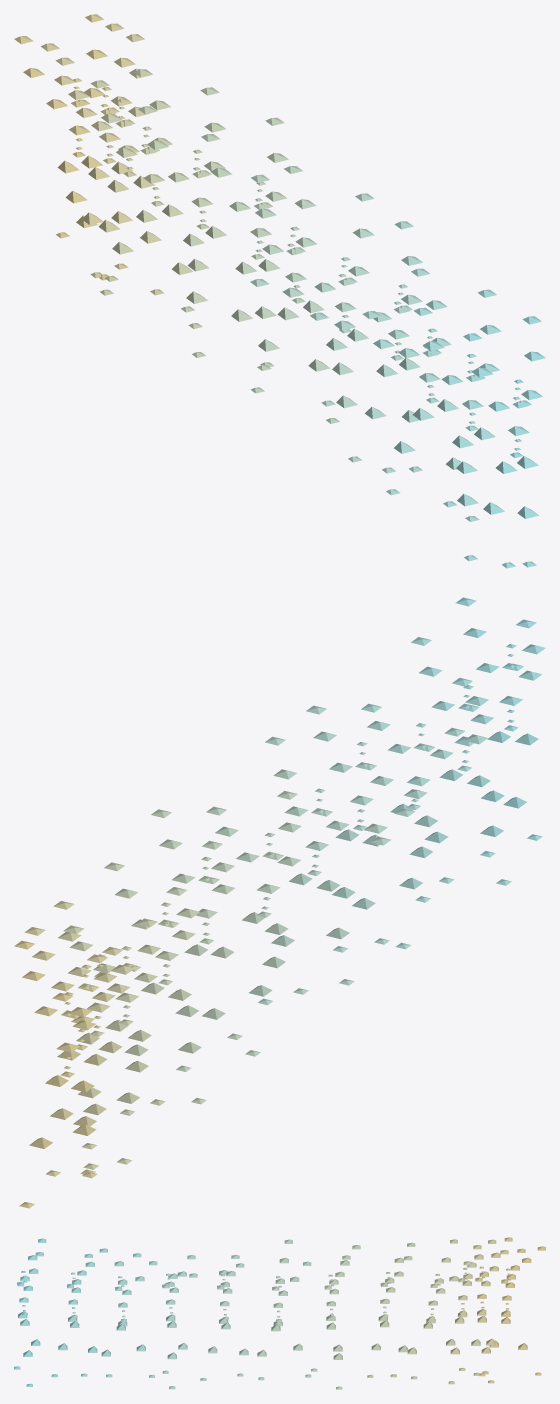
The model's file is kimodo_walk_wave_strip.glb.
The picture shows the model from 3 angles, top to bottom: view 1: azimuth 30°, elevation 25°; view 2: azimuth 150°, elevation 25°; view 3: azimuth 270°, elevation 25°; orthographic projection. The views are drawn at different scales.
Parts seen in each view (by area): view 1: kimodo_motion_strip; view 2: kimodo_motion_strip; view 3: kimodo_motion_strip.
Part boxes in pixels (x1,y1,x2,y2): kimodo_motion_strip: (14, 14, 545, 568); kimodo_motion_strip: (14, 597, 545, 1208); kimodo_motion_strip: (14, 1237, 545, 1389).
Bounding box in the file's own units: 1.03 × 1.99 × 6.84.
